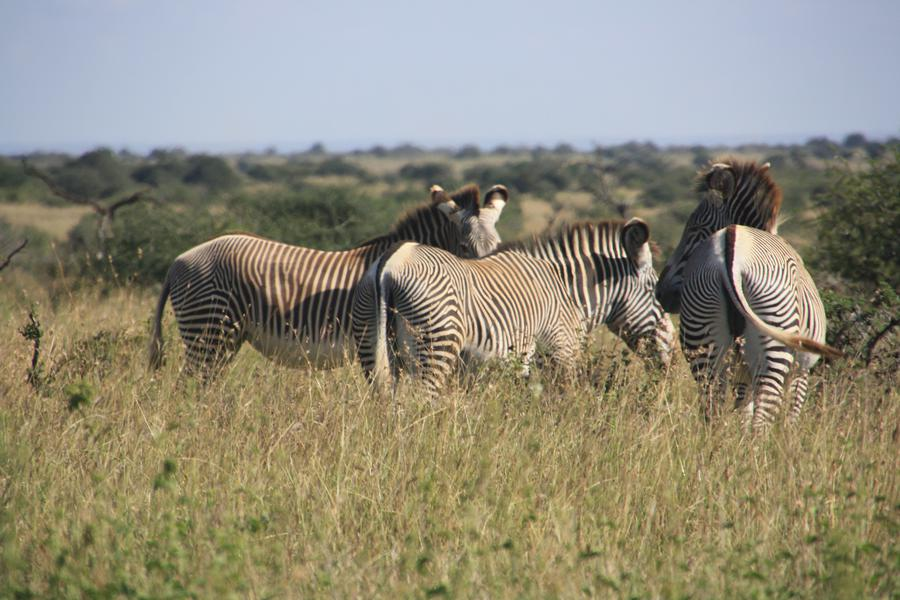zebra_grevys: (154, 222, 348, 357), (388, 231, 583, 362)
